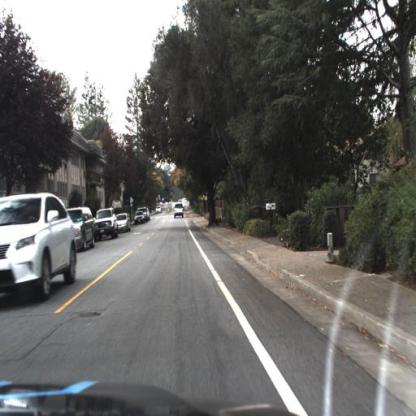car: (95, 203, 121, 242), (77, 206, 95, 250), (119, 213, 131, 234), (175, 202, 187, 219), (135, 210, 147, 224)
